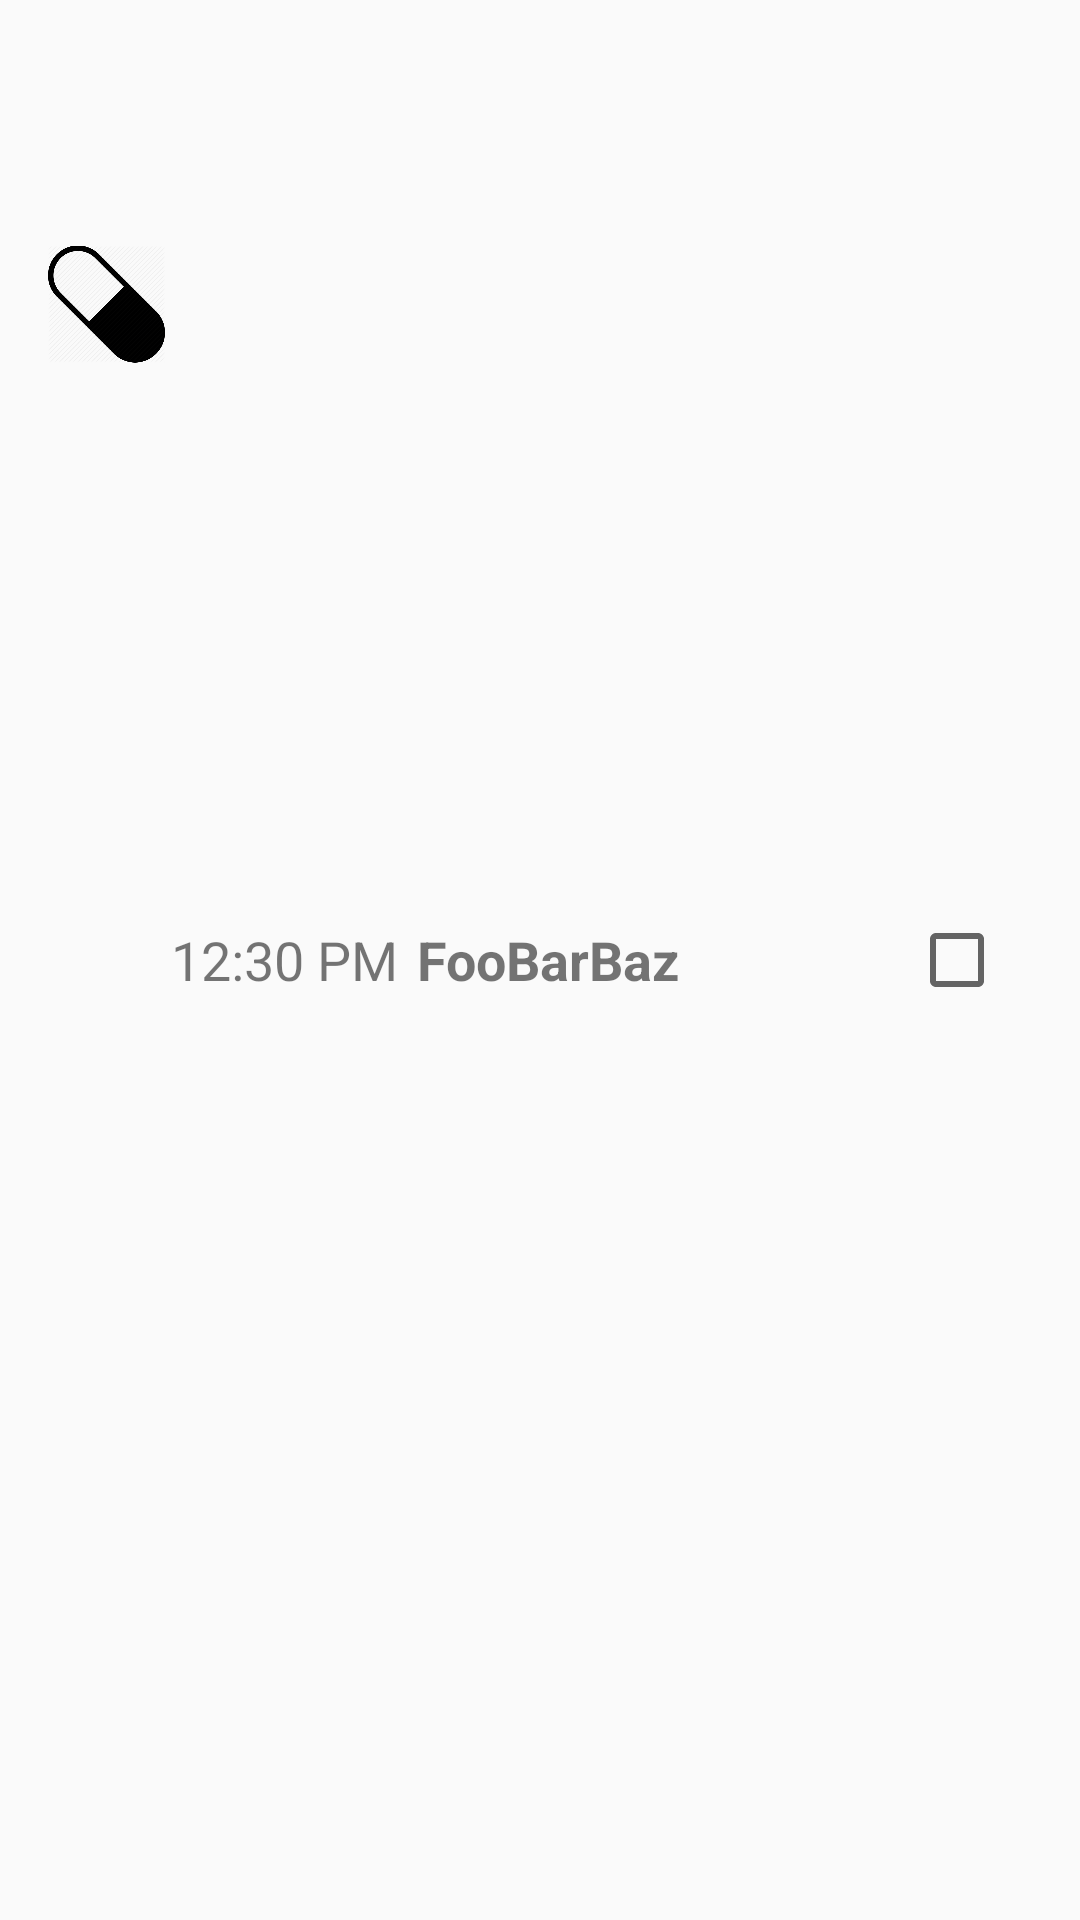

Named icons in this screenshot (1080 × 1920) and their bounding boxes, (x1, y1, x2, y2):
medication drugs: (48, 246, 165, 363)
